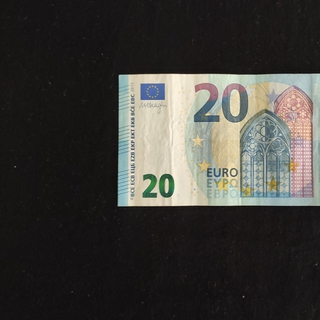20EUROFront: (116, 73, 320, 207)
